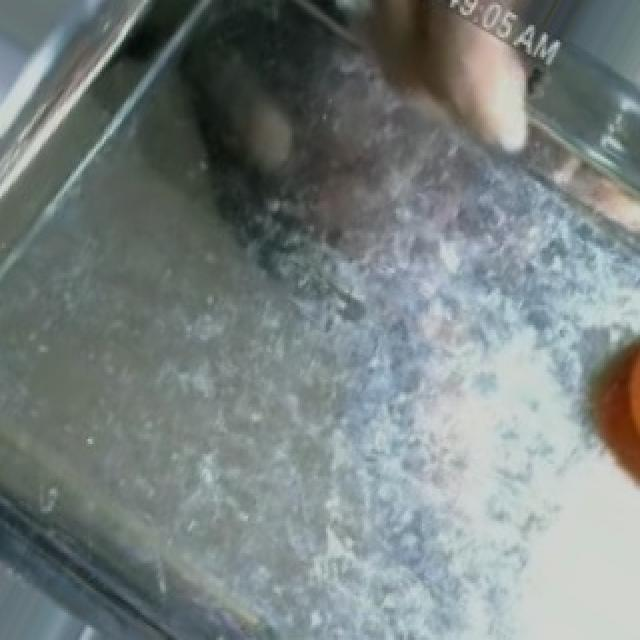Fruit: (572, 307, 640, 524)
